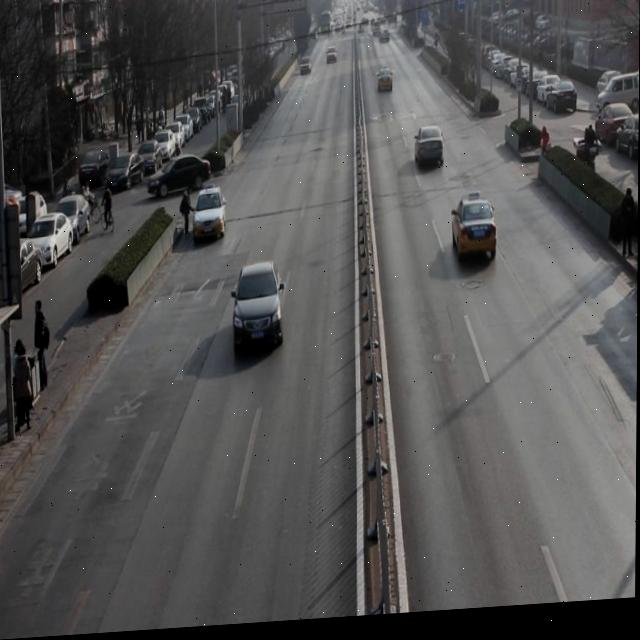car: (229, 261, 285, 361), (450, 199, 500, 268), (193, 190, 227, 248), (411, 130, 448, 178)
